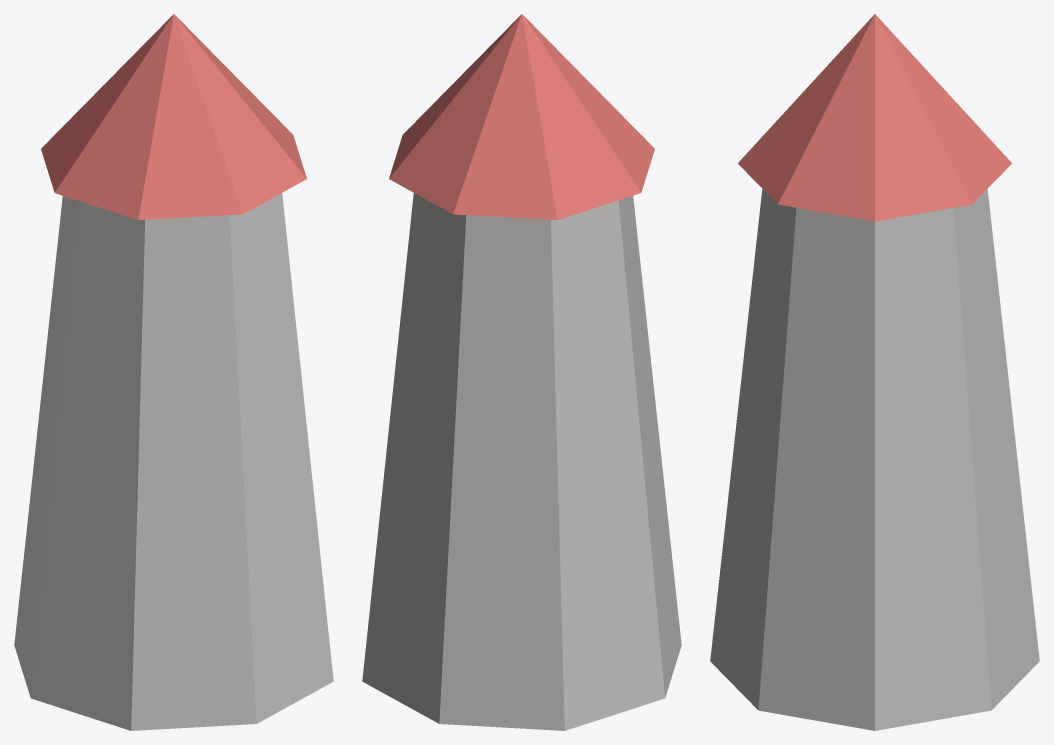
File: molino.glb
3 views of the same model, side by side, from view 1: azimuth 30°, elevation 25°; view 2: azimuth 150°, elevation 25°; view 3: azimuth 270°, elevation 25° (orthographic).
Parts seen in each view (by area): view 1: molino; view 2: molino; view 3: molino.
Boxes of the visible parts, x1,y1,x2,y2 form: molino: (14,14,333,730); molino: (362,14,681,730); molino: (710,14,1039,730).
Bounding box in the file's own units: 1.2 × 2.6 × 1.2.
